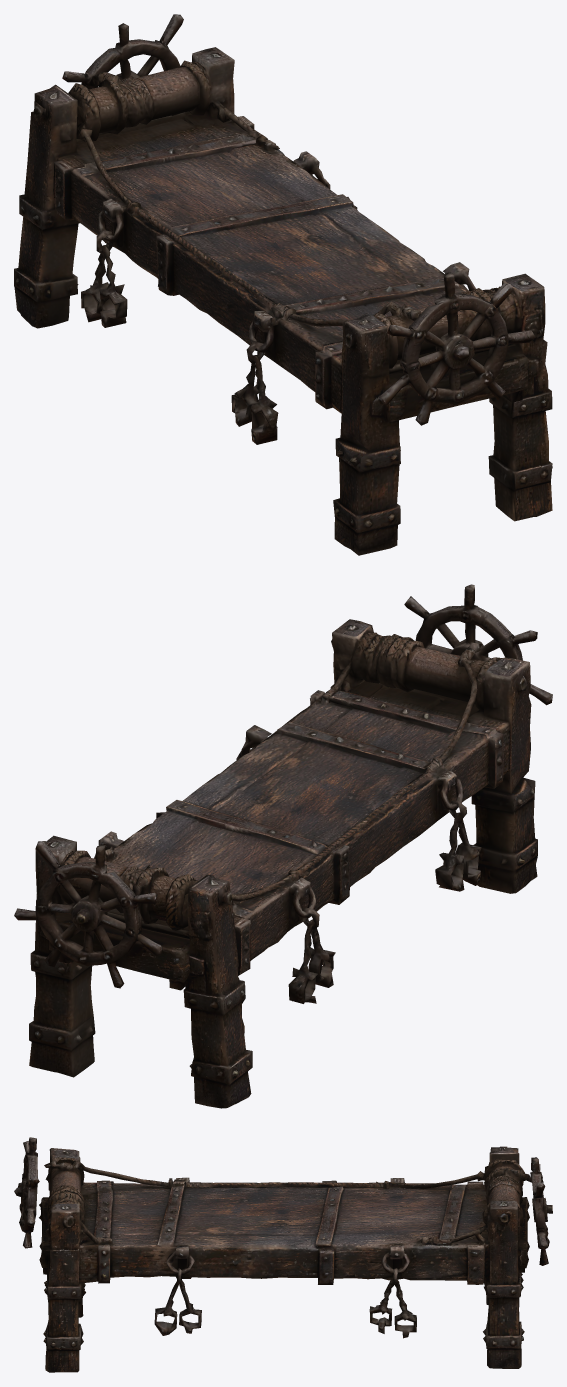
Rendered from raw_rack.glb.
The picture shows the model from 3 angles, top to bottom: view 1: azimuth 30°, elevation 25°; view 2: azimuth 150°, elevation 25°; view 3: azimuth 270°, elevation 25°; orthographic projection. The views are drawn at different scales.
Parts seen in each view (by area): view 1: tripo_node_6e257af1-b1a0-4495-bf12-b88d1d1a6828; view 2: tripo_node_6e257af1-b1a0-4495-bf12-b88d1d1a6828; view 3: tripo_node_6e257af1-b1a0-4495-bf12-b88d1d1a6828.
Part boxes in pixels (x1,y1,x2,y2): tripo_node_6e257af1-b1a0-4495-bf12-b88d1d1a6828: (14,14,552,555); tripo_node_6e257af1-b1a0-4495-bf12-b88d1d1a6828: (14,584,552,1108); tripo_node_6e257af1-b1a0-4495-bf12-b88d1d1a6828: (14,1137,552,1372).
Bounding box in the file's own units: 0.3682 × 0.4005 × 1.
1 material, 1 textured.
